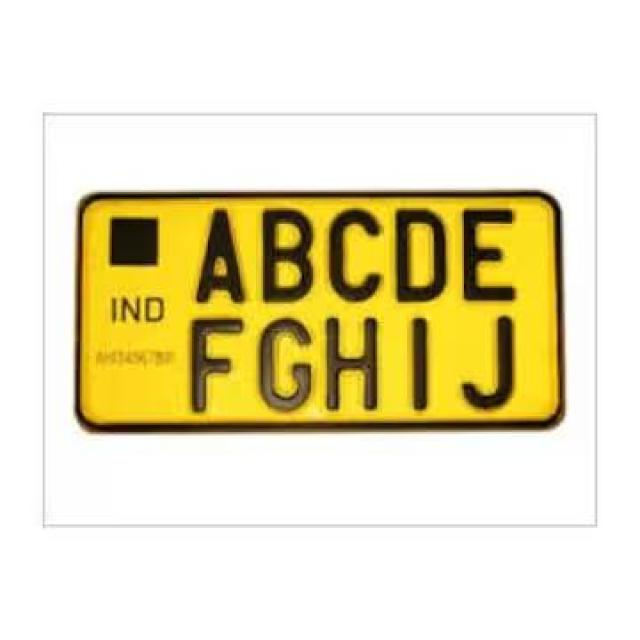plate: (64, 175, 579, 449)
